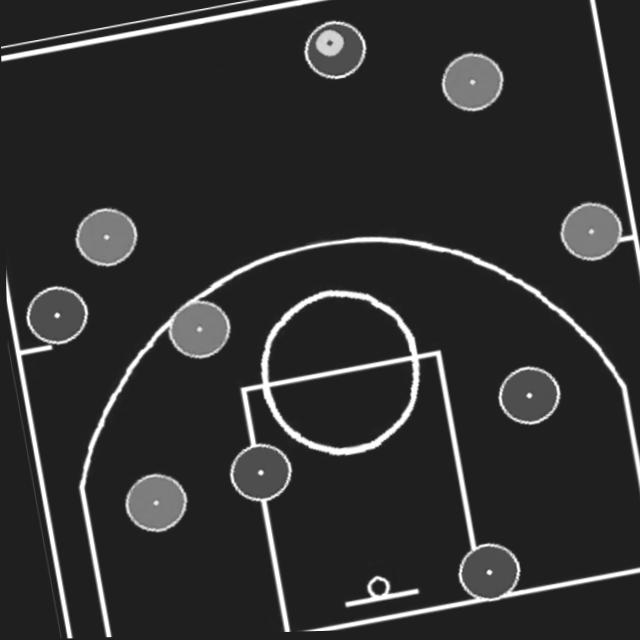Basketball: (314, 28, 346, 61)
Team_A: (492, 365, 562, 433), (299, 19, 369, 87), (223, 439, 293, 507), (21, 282, 92, 349), (452, 542, 522, 609)
Team_B: (164, 296, 234, 364), (438, 51, 508, 119), (555, 202, 625, 270), (119, 470, 189, 537), (71, 204, 141, 271)
